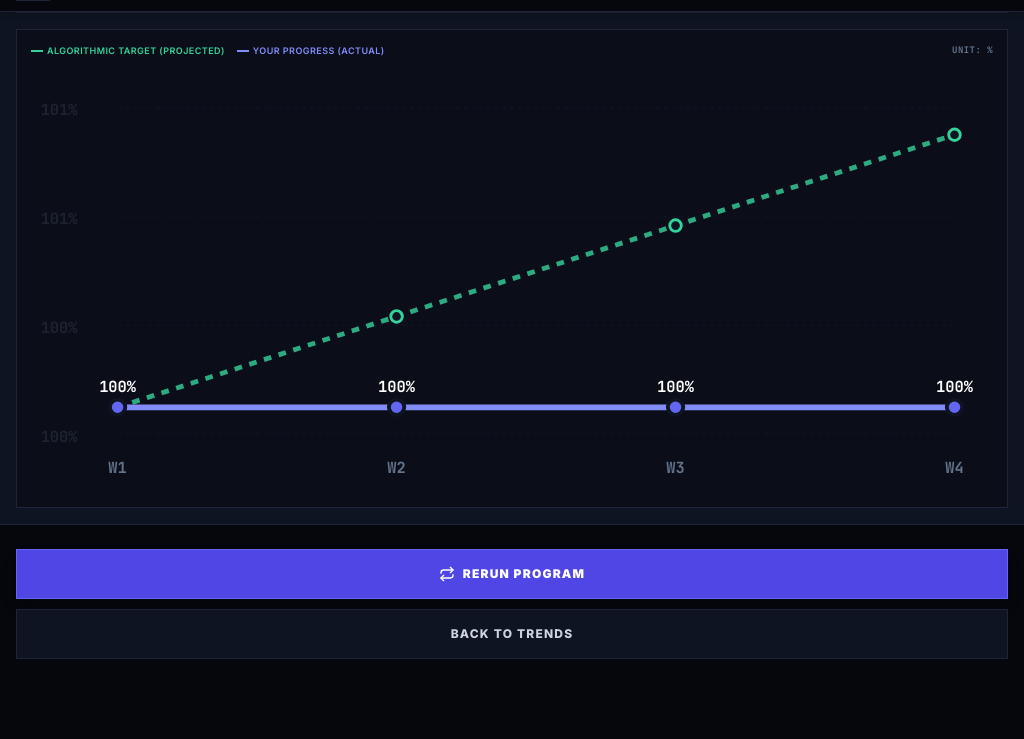
Test: RPC-2B: Program Report Card Rerun Action Suite › cancels rerun modal and leaves state unchanged when CANCEL is clicked
(page scrolled)
Click the button "Rerun Program": (512, 574) [16,548,1008,598]
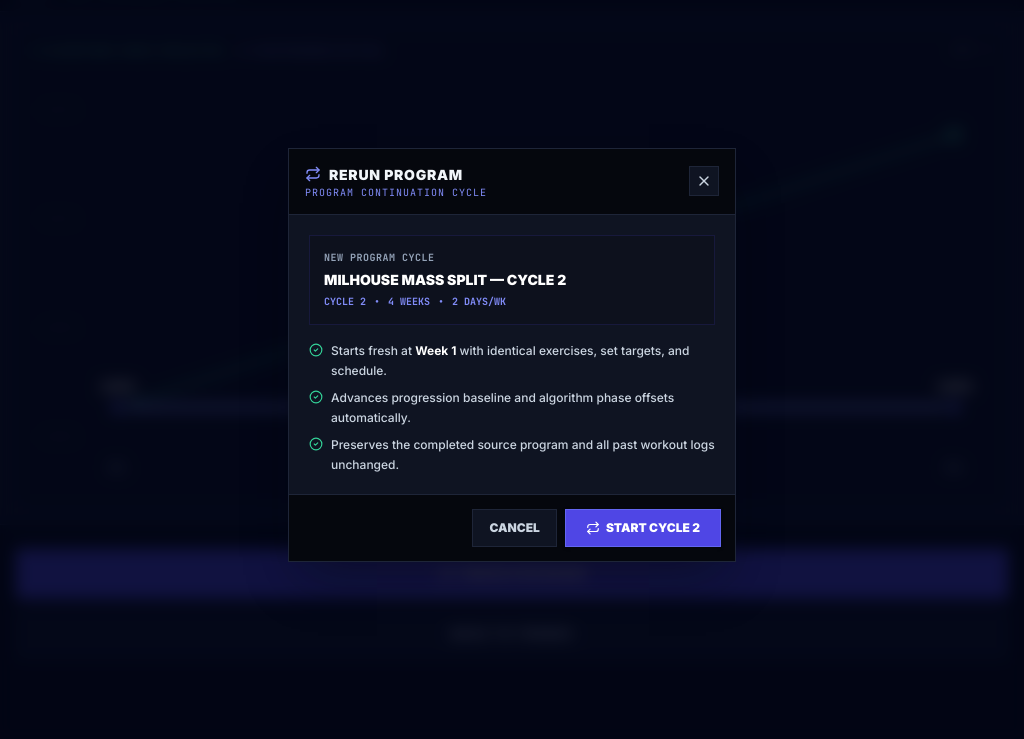
expect the text "Program Continuation Cycle" is shown: met, box [305,188,487,198]
Click the button "CANCEL": (515, 528) [472,509,557,547]
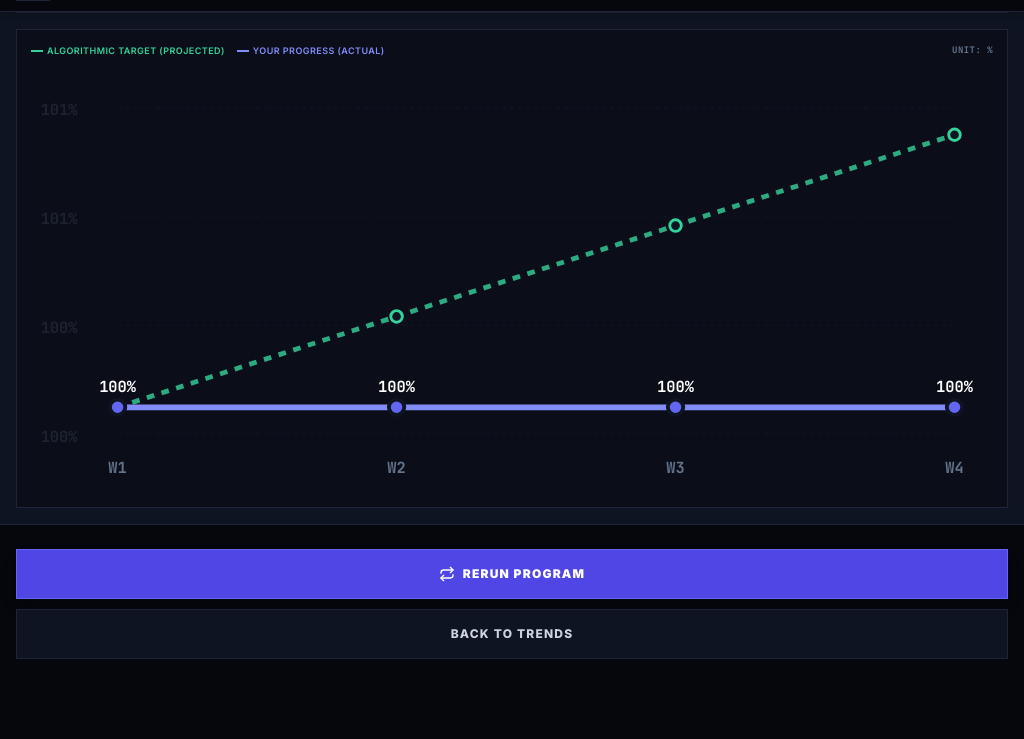
expect the text "Program Continuation Cycle" is gone: met
